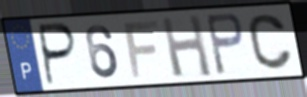6: (83, 24, 121, 81)
C: (246, 12, 295, 71)
F: (121, 18, 161, 80)
H: (159, 12, 215, 79)
P: (203, 11, 246, 78), (37, 21, 80, 87)
